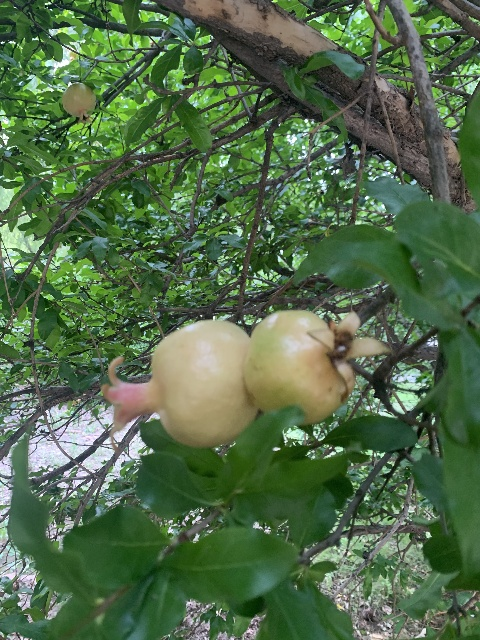mid-growth: (102, 319, 256, 450), (243, 308, 392, 426), (61, 82, 96, 124)
